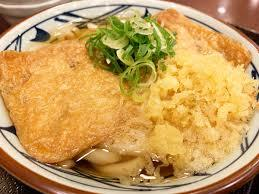kitune: (1, 1, 258, 190)
